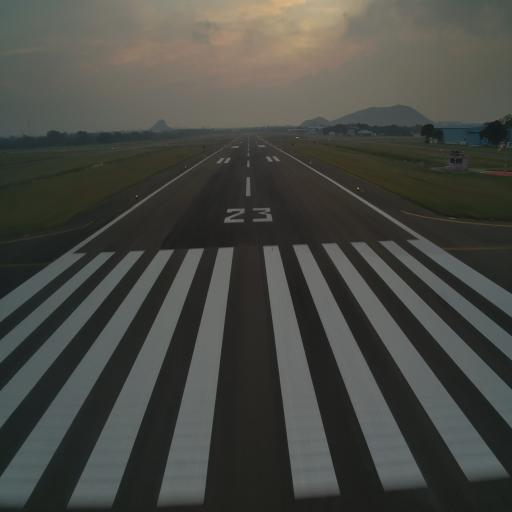on: (134, 193, 139, 199), (356, 185, 360, 192)
